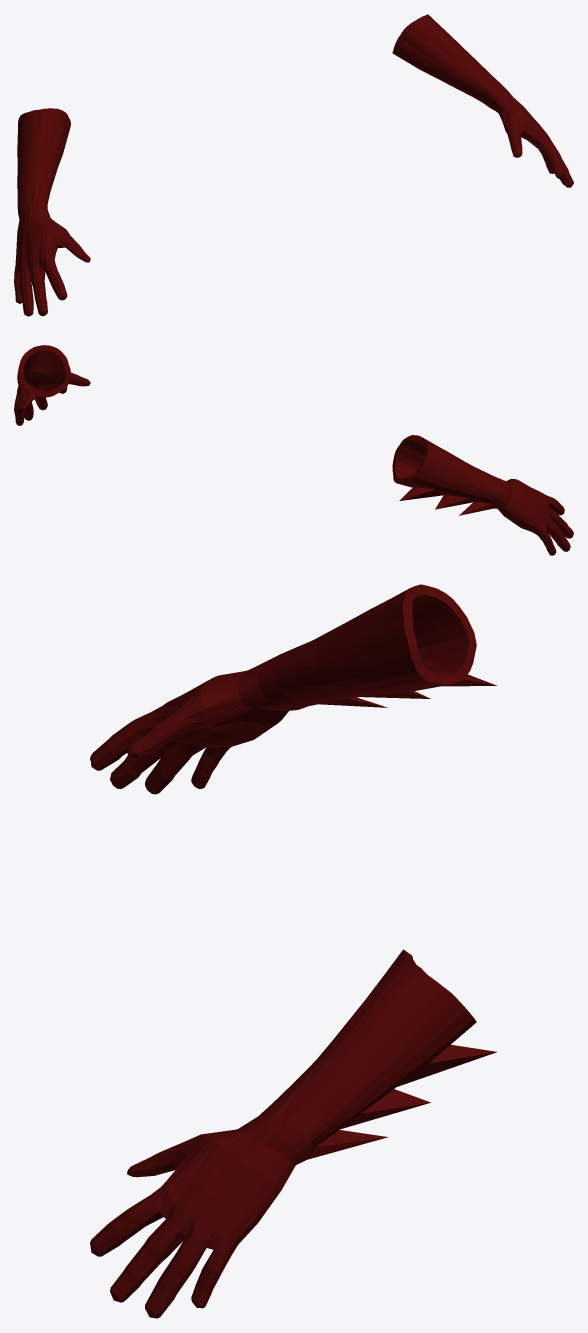
File: mhw_culturalibre_hero-heroine_gloves_5.glb
3 renders of one model, top to bottom at view 1: azimuth 30°, elevation 25°; view 2: azimuth 150°, elevation 25°; view 3: azimuth 270°, elevation 25°, orthographic. The views are drawn at different scales.
Parts seen in each view (by area): view 1: mhw_culturalibre_hero-heroine_gloves_5; view 2: mhw_culturalibre_hero-heroine_gloves_5; view 3: mhw_culturalibre_hero-heroine_gloves_5.
Part boxes in pixels (box(x1,y1,x2,y2)): mhw_culturalibre_hero-heroine_gloves_5: box(14, 14, 573, 316); mhw_culturalibre_hero-heroine_gloves_5: box(14, 345, 573, 555); mhw_culturalibre_hero-heroine_gloves_5: box(90, 584, 496, 1318).
Bounding box in the file's own units: 1.22 × 0.3018 × 0.3946.
Materials: 1 (1 with a texture image).
